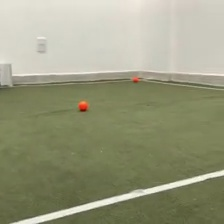ball: (78, 99, 88, 112), (132, 74, 140, 83)
